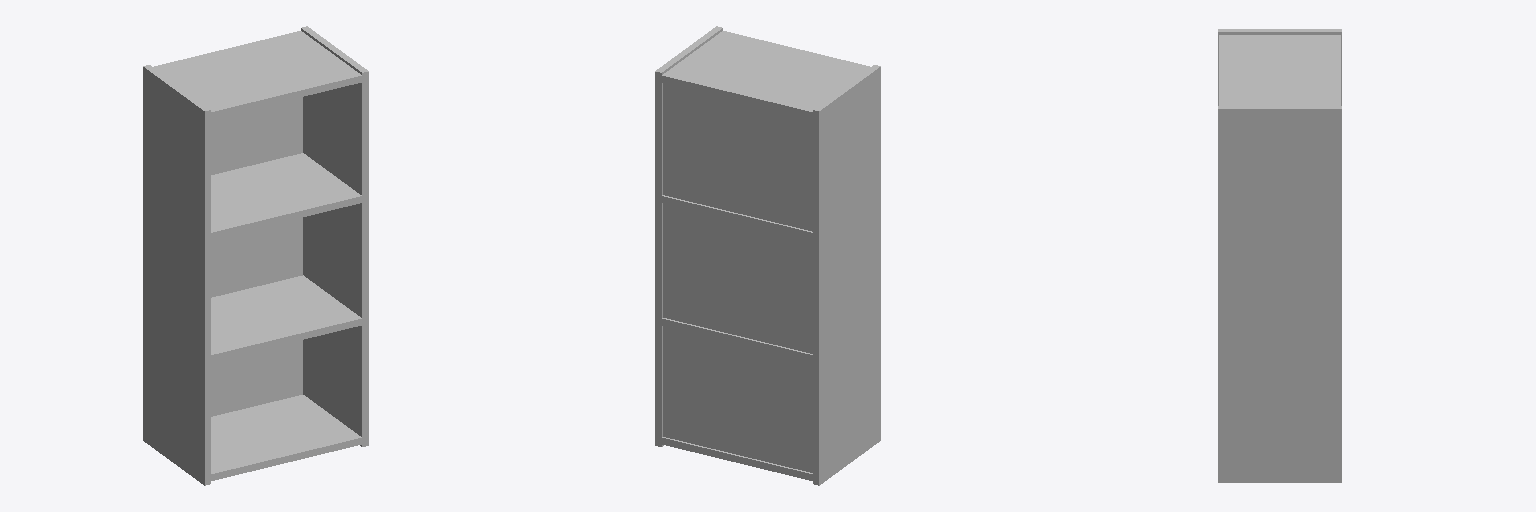
The model's file is color-box.obj.
3 views of the same model, side by side, from view 1: azimuth 30°, elevation 25°; view 2: azimuth 150°, elevation 25°; view 3: azimuth 270°, elevation 25° (orthographic).
Parts seen in each view (by area): view 1: side, separator, back; view 2: back, side, separator; view 3: side, separator.
Boxes of the visible parts, x1,y1,x2,y2 form: side: [143, 26, 368, 485]; separator: [153, 31, 361, 480]; back: [211, 97, 302, 416]; back: [663, 83, 812, 472]; side: [655, 26, 880, 485]; separator: [662, 31, 870, 480]; side: [1218, 29, 1341, 482]; separator: [1219, 35, 1340, 105].
Size of the model in its own units: 0.423 by 0.92 by 0.275.